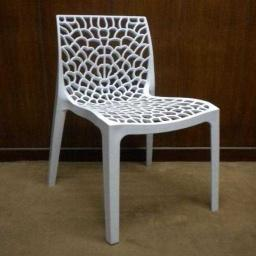Chair: (53, 13, 220, 244)
